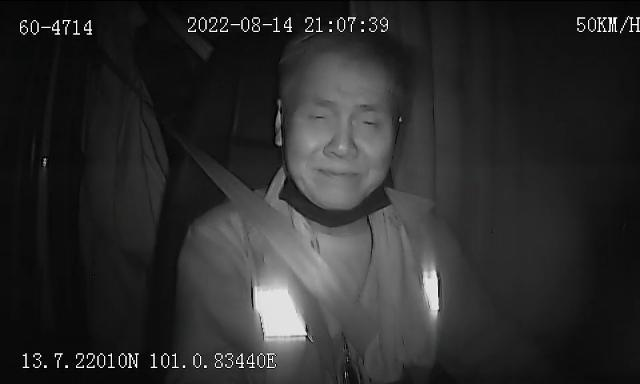SafeDriving: (350, 106, 387, 136), (302, 102, 338, 128)
Seatbelt: (184, 144, 372, 340)
